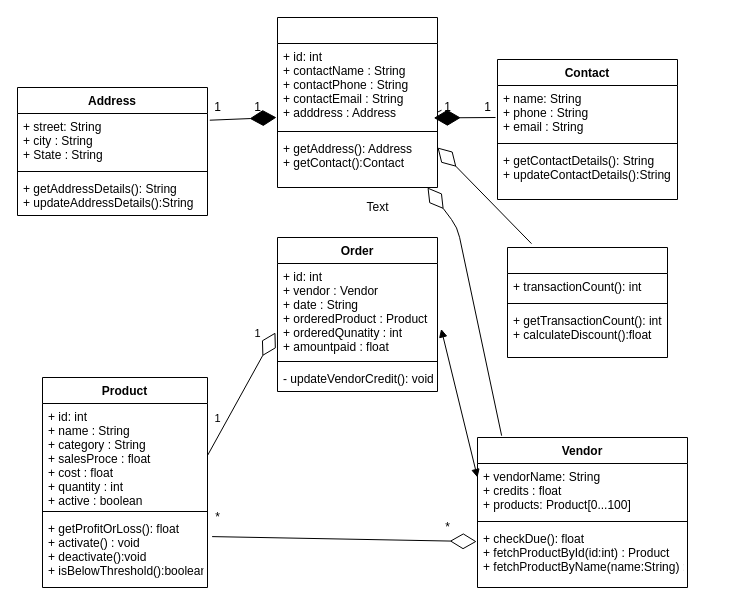
Some shapes in this 747 by 608 pixel diagram are drawn without their labels. The box of each missing label's shape, as (x1, y1, x2, y2) in pixels:
Business Partner: (276, 16, 438, 188)
Customer: (506, 246, 668, 358)
